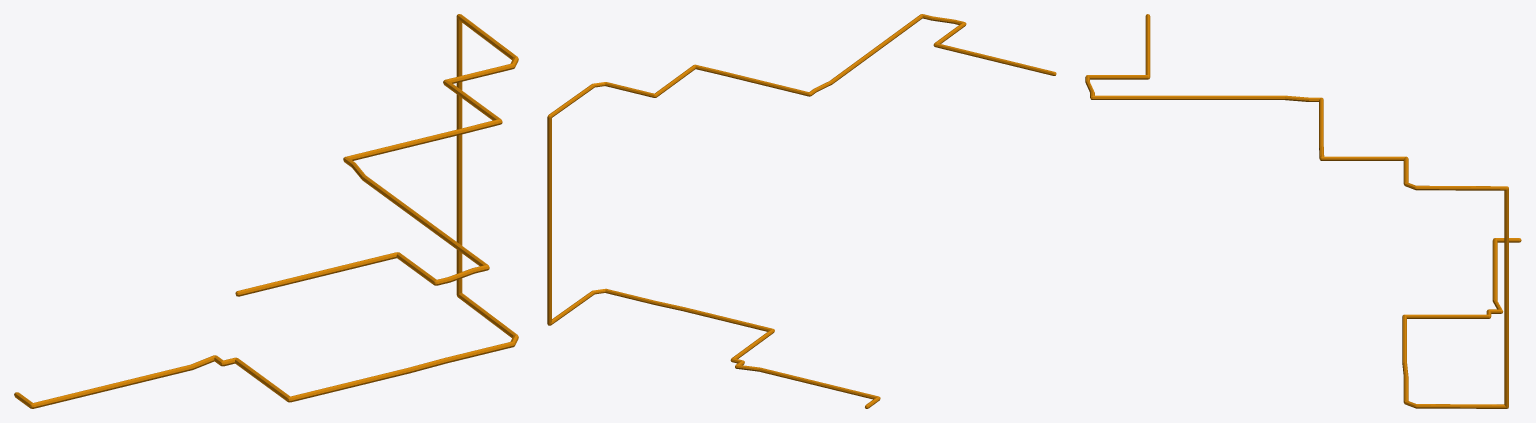
3 views of the same model, side by side, from view 1: azimuth 30°, elevation 25°; view 2: azimuth 150°, elevation 25°; view 3: azimuth 270°, elevation 25° (orthographic). The views are drawn at different scales.
Size of the model in its own units: 1713 by 1020 by 1812.
